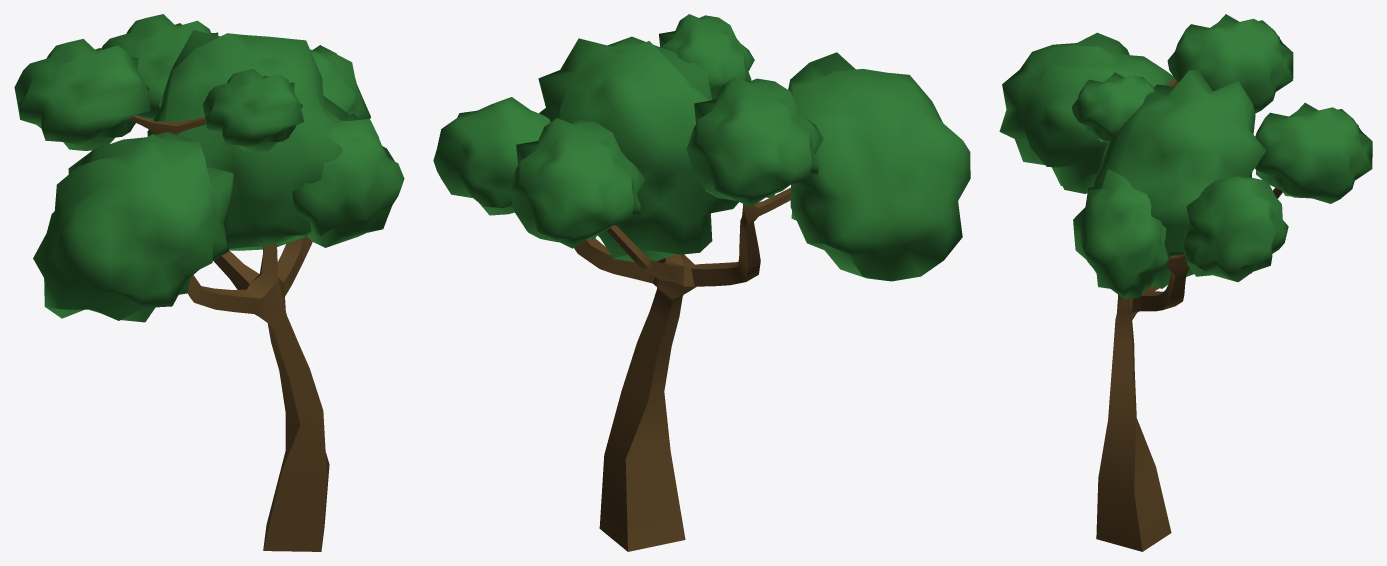
File: Arvore_verde.fbx
The picture shows the model from 3 angles, left to right: view 1: azimuth 30°, elevation 25°; view 2: azimuth 150°, elevation 25°; view 3: azimuth 270°, elevation 25°; orthographic projection. The views are drawn at different scales.
Parts seen in each view (by area): view 1: Icosphere.005, Cube; view 2: Icosphere.005, Cube; view 3: Icosphere.005, Cube.
Part boxes in pixels (<box>): Icosphere.005: <box>14,14,404,322</box>; Cube: <box>128,115,329,551</box>; Icosphere.005: <box>433,14,970,281</box>; Cube: <box>574,187,790,551</box>; Icosphere.005: <box>999,14,1372,298</box>; Cube: <box>1096,78,1282,551</box>.
Bounding box in the file's own units: 19.23 × 21.56 × 25.58.
